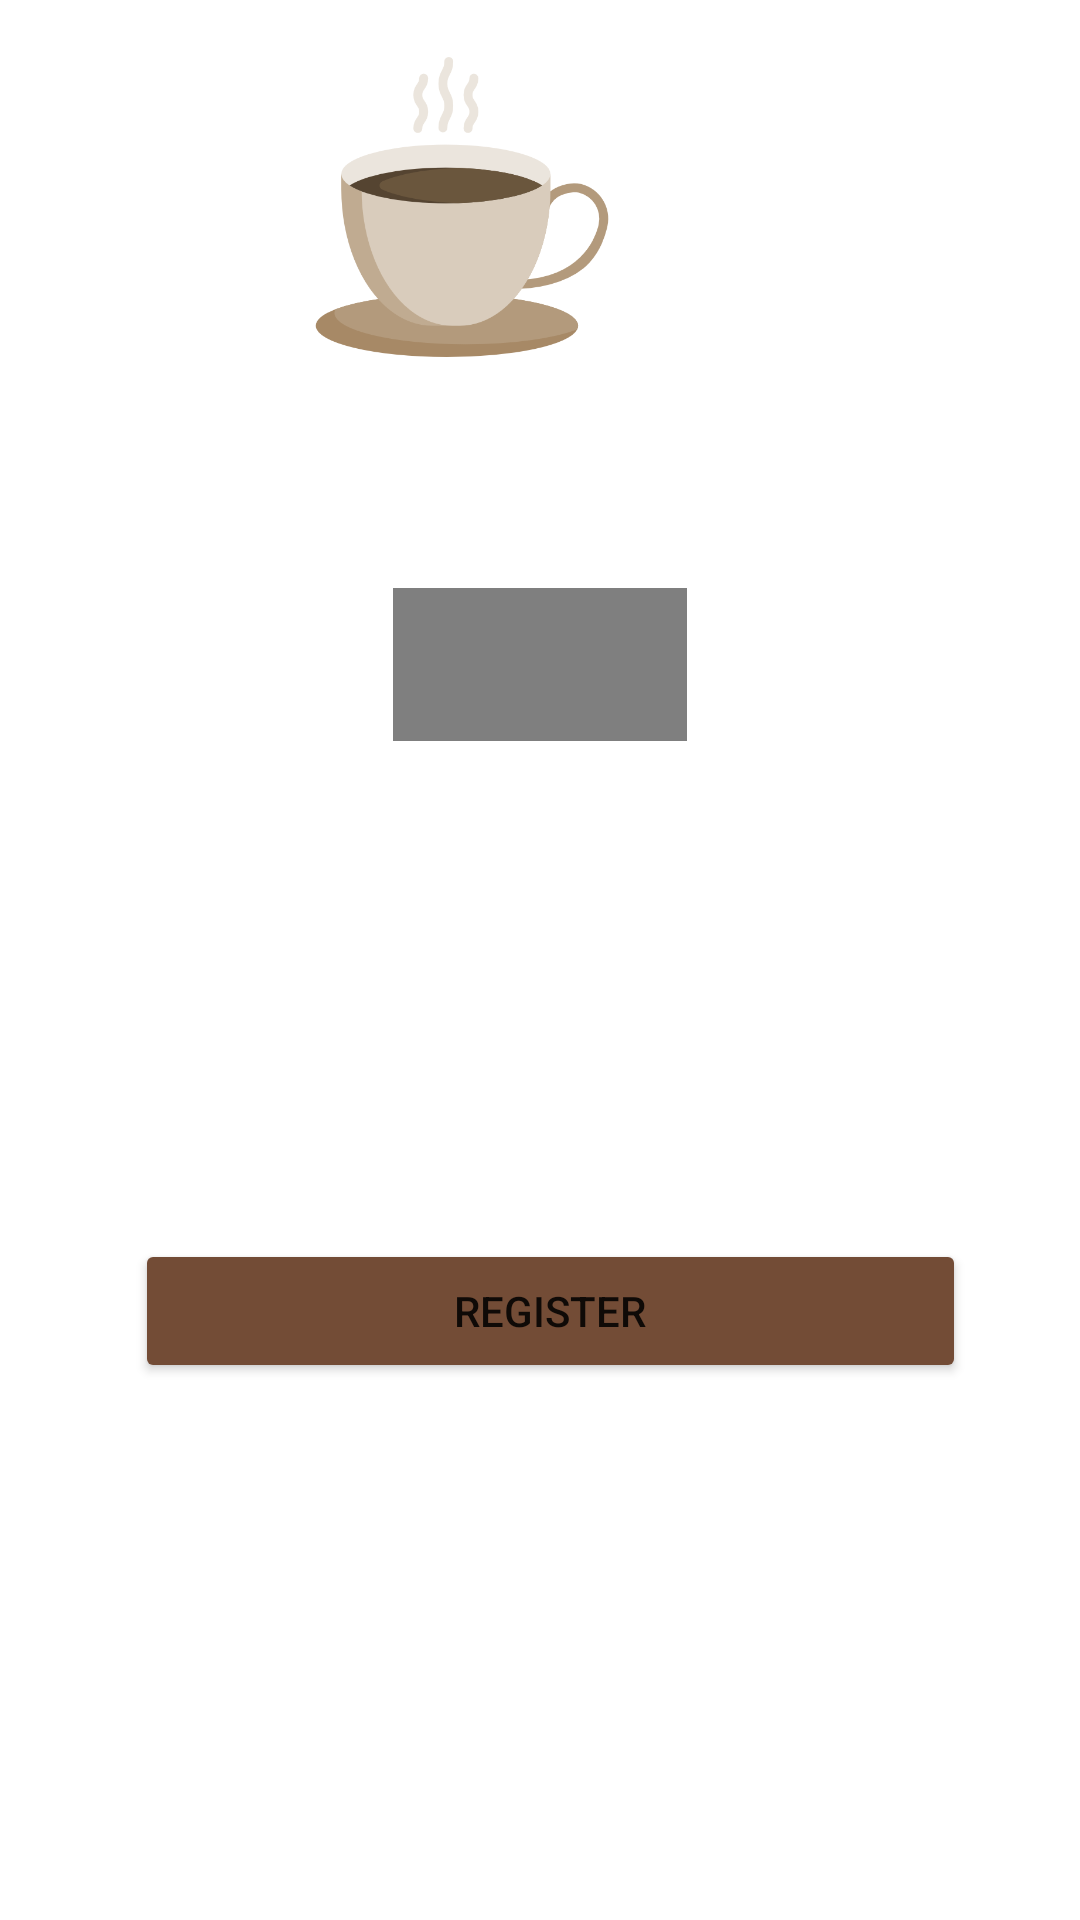

Icon bounding boxes for this 1080w x 1920h phone screenshot, format rect(x1, y1, x2, y2):
coffee: rect(315, 57, 609, 357)
